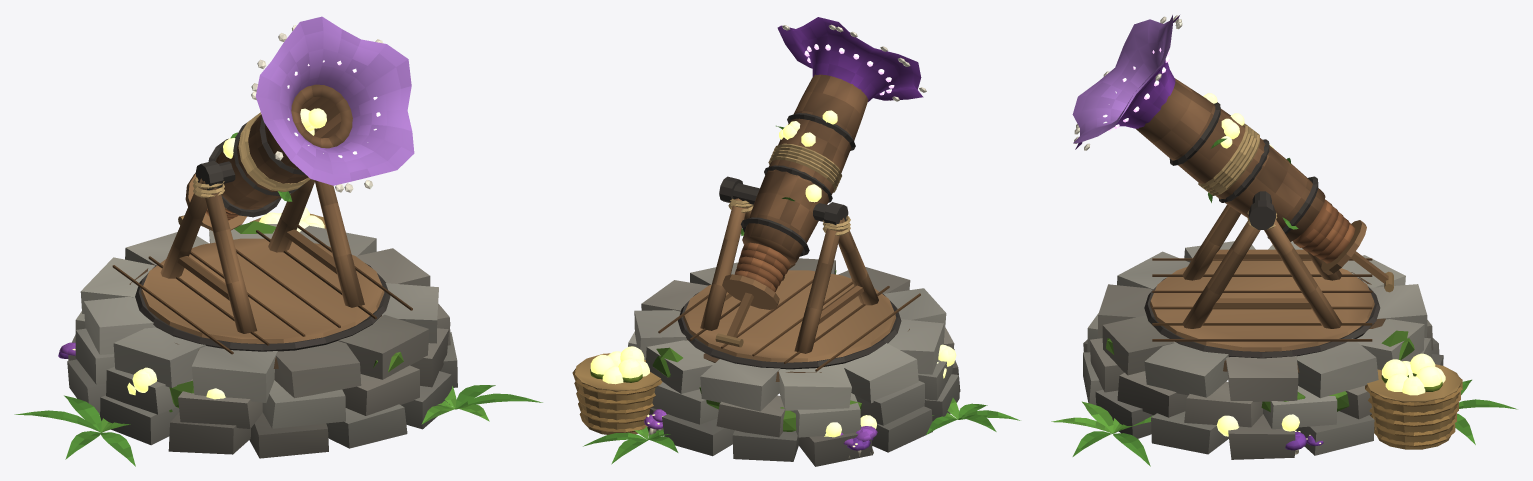
File: spore_mortar.glb
The picture shows the model from 3 angles, left to right: view 1: azimuth 30°, elevation 25°; view 2: azimuth 150°, elevation 25°; view 3: azimuth 270°, elevation 25°; orthographic projection. The views are drawn at different scales.
Parts seen in each view (by area): view 1: Body.002, Turret.001, Aim.001, Bellows; view 2: Body.002, Aim.001, Turret.001, Bellows; view 3: Body.002, Turret.001, Aim.001, Bellows.
Boxes of the visible parts, x1=… form: Body.002: x1=14, y1=207, x2=542, y2=466; Turret.001: x1=112, y1=160, x2=412, y2=354; Aim.001: x1=198, y1=16, x2=414, y2=217; Bellows: x1=178, y1=173, x2=246, y2=230; Body.002: x1=572, y1=258, x2=1020, y2=466; Aim.001: x1=733, y1=17, x2=926, y2=264; Turret.001: x1=658, y1=176, x2=920, y2=371; Bellows: x1=715, y1=242, x2=790, y2=347; Body.002: x1=1051, y1=241, x2=1517, y2=466; Turret.001: x1=1144, y1=200, x2=1380, y2=358; Aim.001: x1=1072, y1=15, x2=1325, y2=241; Bellows: x1=1293, y1=199, x2=1393, y2=292.
Size of the model in its own units: 2.82 by 2.58 by 2.94.
